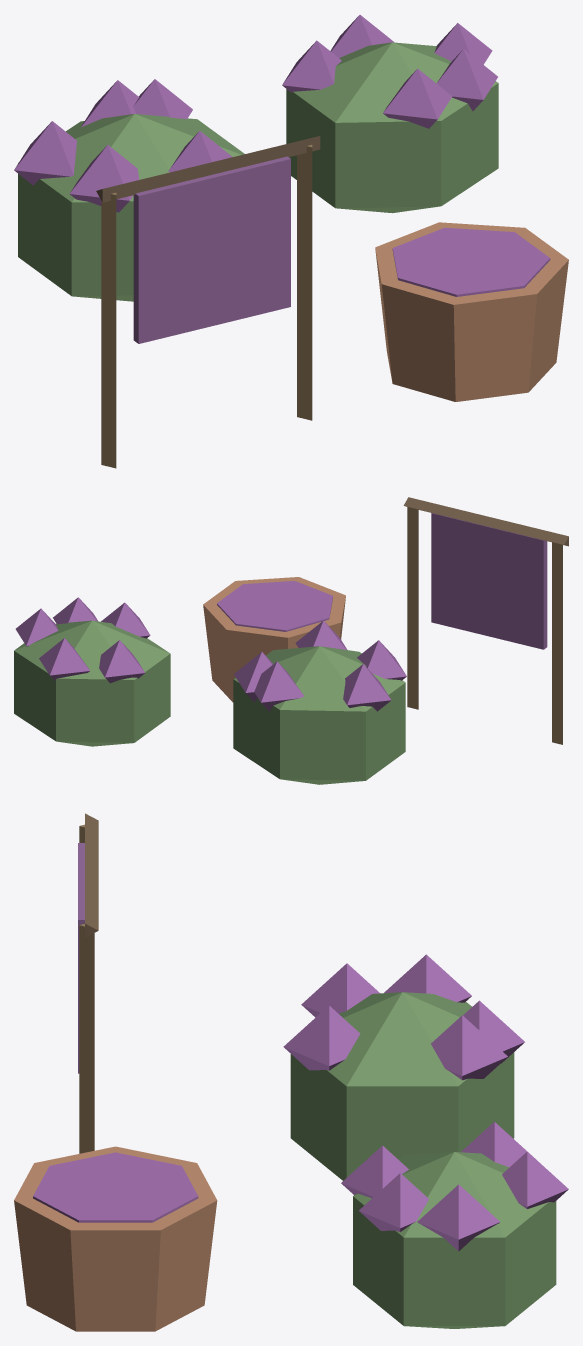
The model's file is dyes.glb.
3 renders of one model, top to bottom at view 1: azimuth 30°, elevation 25°; view 2: azimuth 150°, elevation 25°; view 3: azimuth 270°, elevation 25°, orthographic. The views are drawn at different scales.
Parts seen in each view (by area): view 1: LOD0; view 2: LOD0; view 3: LOD0.
Part boxes in pixels (x1,y1,x2,y2): LOD0: (14, 15, 568, 468); LOD0: (14, 497, 568, 784); LOD0: (14, 813, 568, 1331).
Size of what is drawn, in the model's own units: 0.6287 by 0.2953 by 0.5109.
